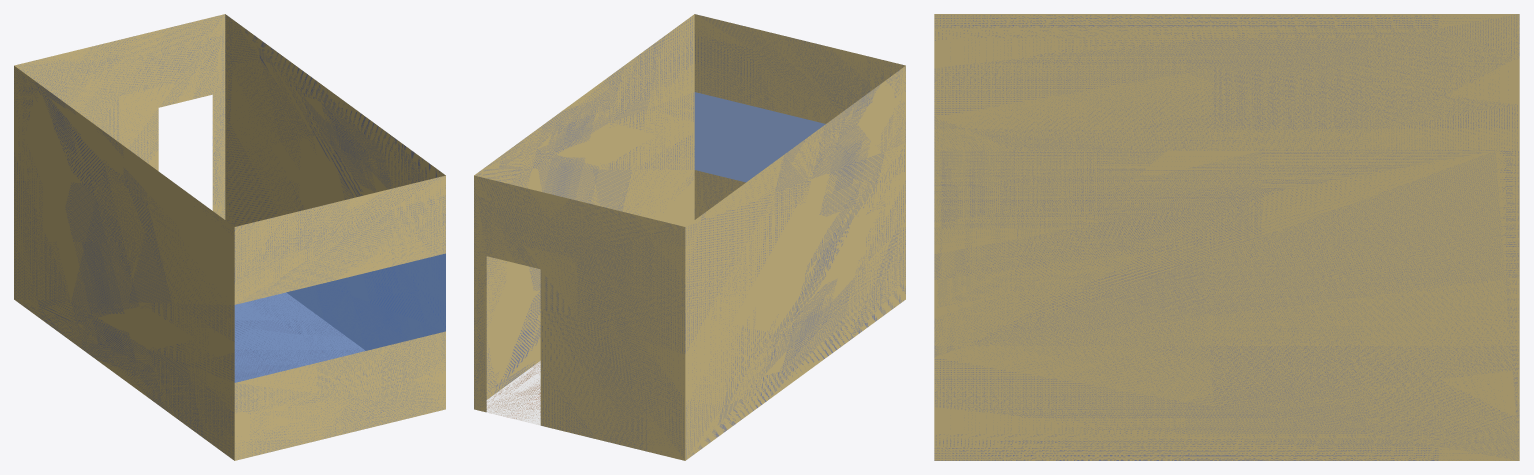
The model's file is DES006.obj.
3 renders of one model, left to right at view 1: azimuth 30°, elevation 25°; view 2: azimuth 150°, elevation 25°; view 3: azimuth 270°, elevation 25°, orthographic. The views are drawn at different scales.
Visible parts, largest first — view 1: Mesh1 DES006 Model; view 2: Mesh1 DES006 Model; view 3: Mesh1 DES006 Model.
Boxes of the visible parts, bbox=[...] form: Mesh1 DES006 Model: bbox=[14, 14, 445, 460]; Mesh1 DES006 Model: bbox=[474, 14, 905, 460]; Mesh1 DES006 Model: bbox=[934, 14, 1519, 460].
Size of the model in its own units: 2.83 by 3 by 5.12.
Materials: 5 (1 with a texture image).
